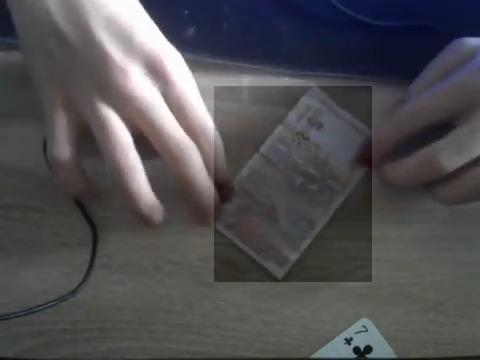5leva: (214, 86, 372, 282)
